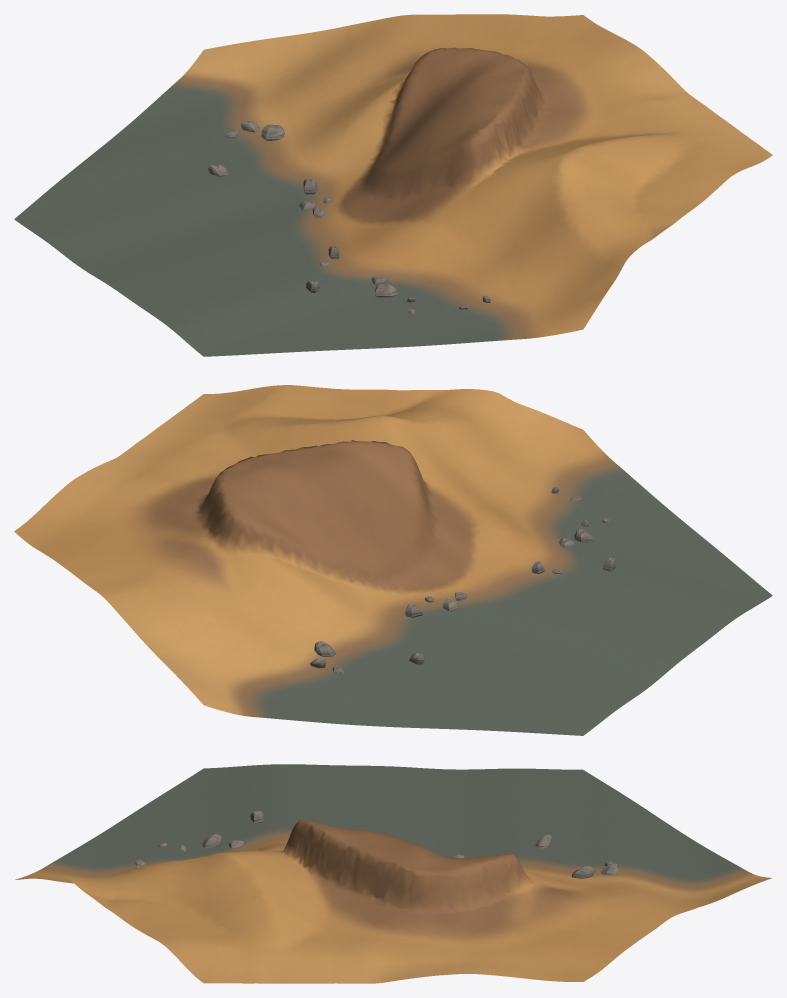
The model's file is dunas-v02.glb.
3 views of the same model, one above another, from view 1: azimuth 30°, elevation 25°; view 2: azimuth 150°, elevation 25°; view 3: azimuth 270°, elevation 25° (orthographic).
Visible parts, largest first — view 1: terrain, Afloramentos; view 2: terrain, Afloramentos; view 3: terrain, Afloramentos.
Boxes of the visible parts, left/top/right/bottom form: terrain: left=14, top=14, right=772, bottom=356; Afloramentos: left=208, top=121, right=490, bottom=314; terrain: left=14, top=385, right=772, bottom=735; Afloramentos: left=310, top=486, right=616, bottom=673; terrain: left=15, top=764, right=771, bottom=983; Afloramentos: left=134, top=811, right=617, bottom=878.
Bounding box in the file's own units: 4330 × 820 × 5000.
Materials: 2 (2 with a texture image).
